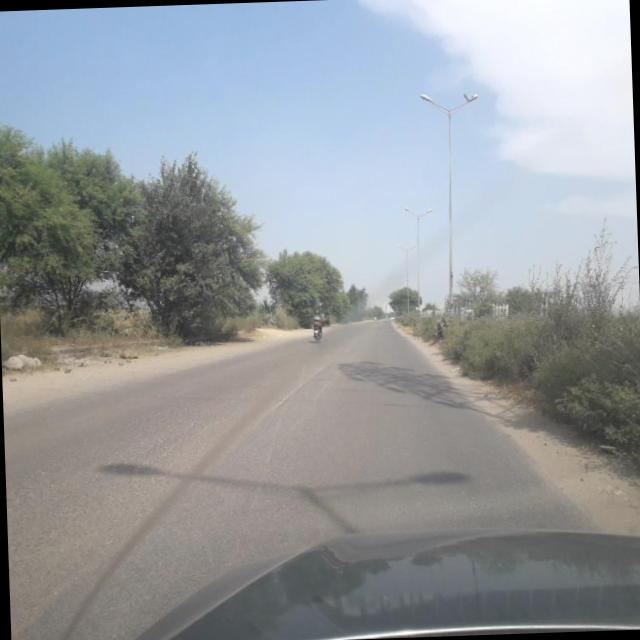pothole: (181, 355, 340, 484)
